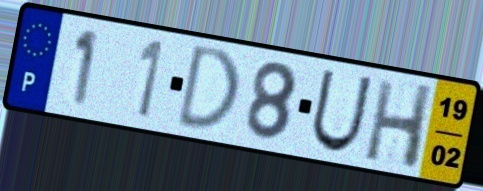1: (137, 40, 166, 123), (72, 27, 99, 109)
8: (242, 60, 299, 143)
D: (173, 42, 243, 133)
H: (361, 77, 437, 173)
U: (308, 66, 376, 155)
